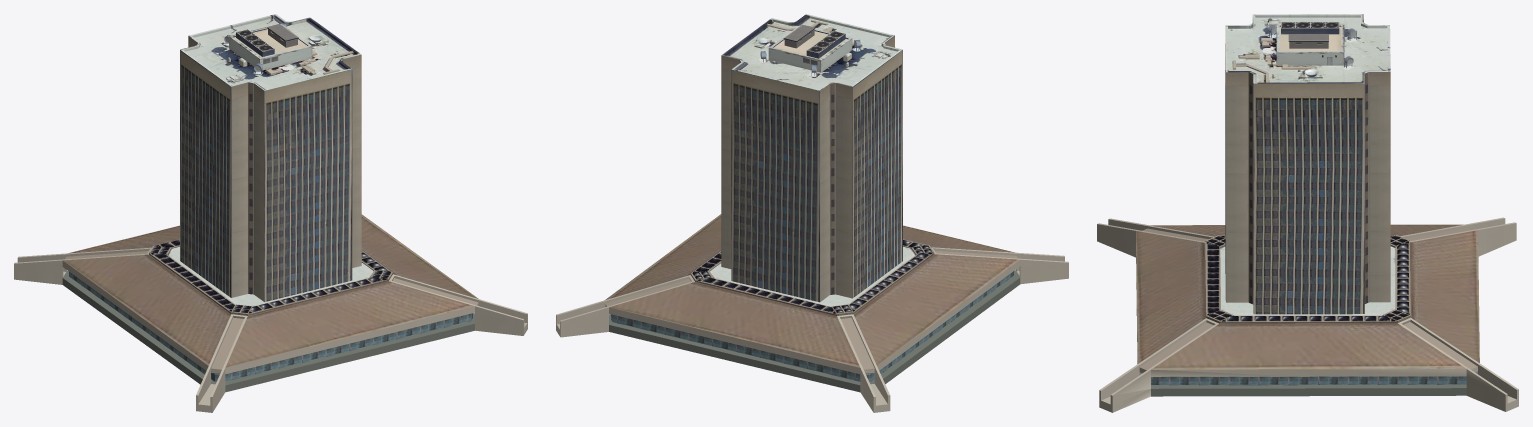
The model's file is mcallen_building.glb.
3 renders of one model, left to right at view 1: azimuth 30°, elevation 25°; view 2: azimuth 150°, elevation 25°; view 3: azimuth 270°, elevation 25°, orthographic. The views are drawn at different scales.
Visible parts, largest first — view 1: Object_4; view 2: Object_4; view 3: Object_4.
Boxes of the visible parts, x1,y1,x2,y2 form: Object_4: [14, 14, 527, 412]; Object_4: [556, 14, 1068, 412]; Object_4: [1097, 14, 1518, 412].
Bounding box in the file's own units: 97.12 × 74.51 × 97.18.
Materials: 1 (1 with a texture image).
